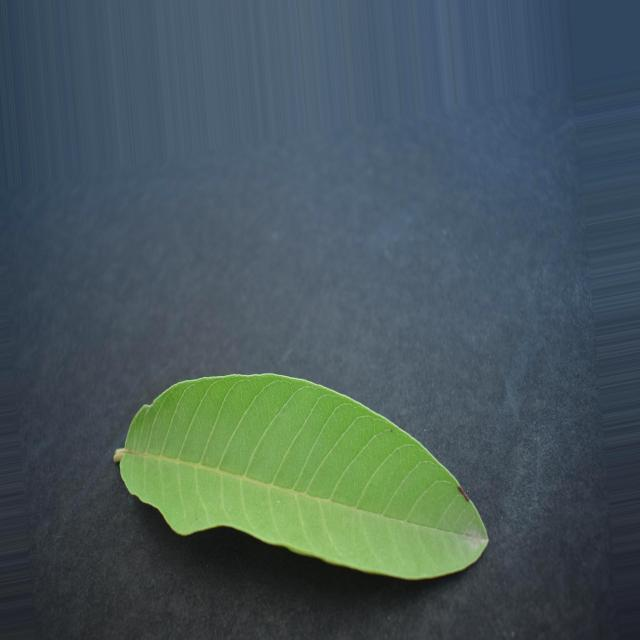Healthy: (115, 373, 488, 579)
